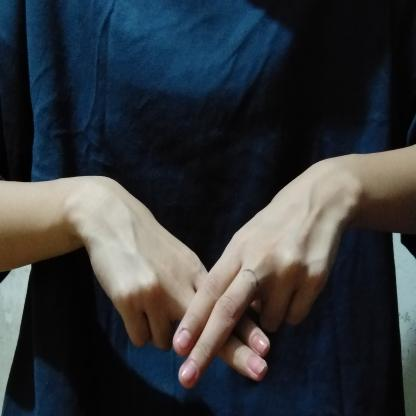father: (58, 153, 372, 395)
